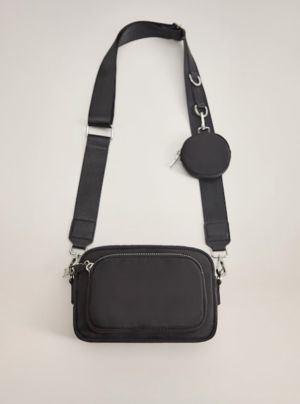nylon: (69, 20, 231, 342)
